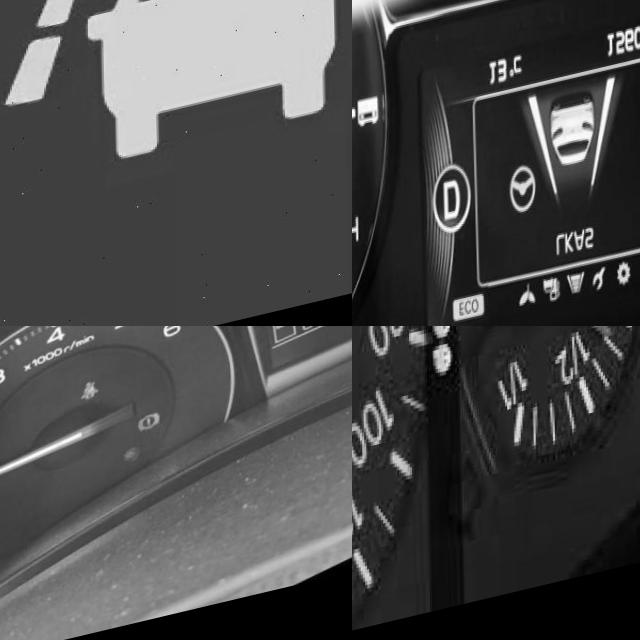Seat Belt: (79, 384, 95, 409)
